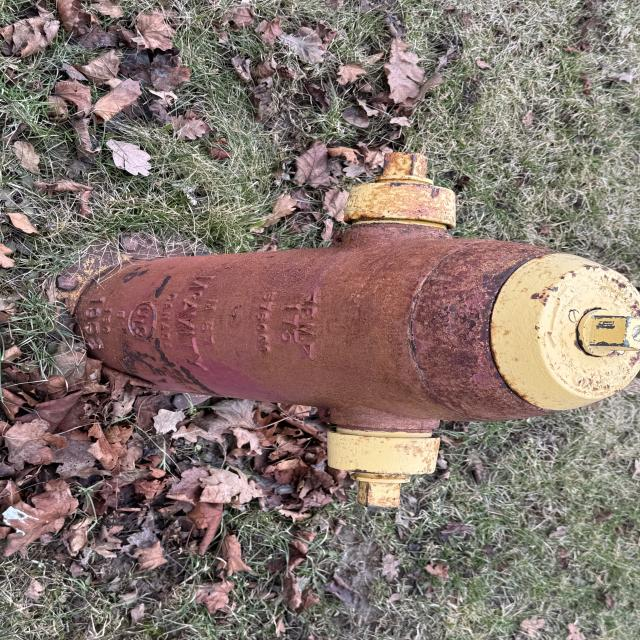Fire hydrant: (56, 149, 640, 511)
